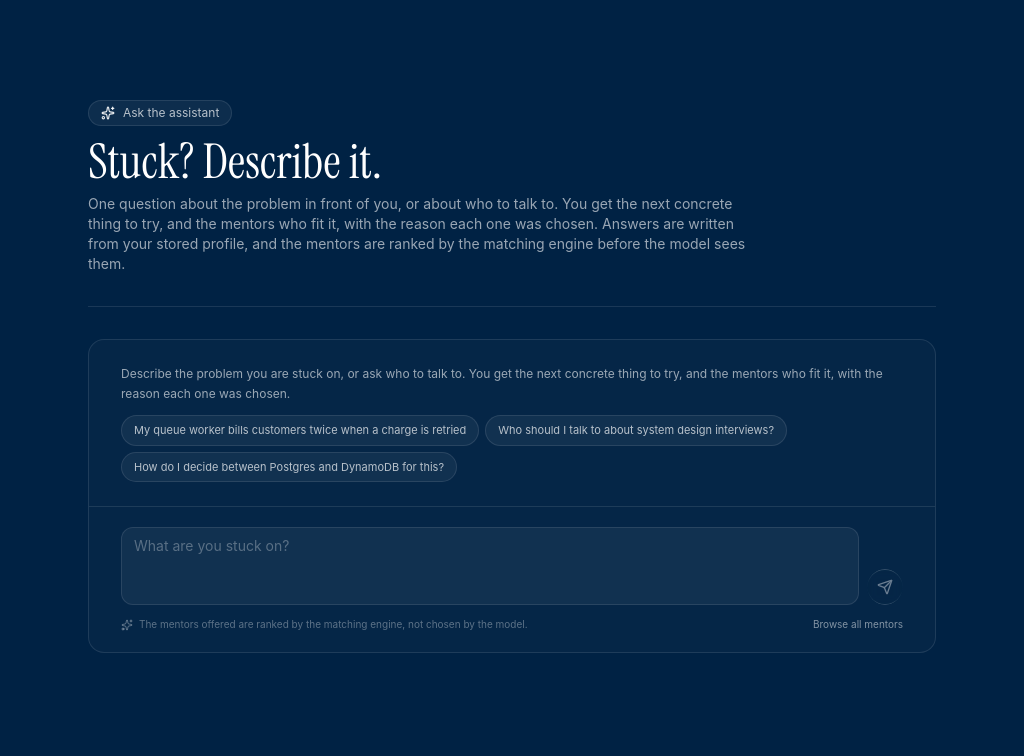
Scenario: the assistant screen › asks the server when there is a session, and labels the model
Type "Why does my queue duplicate charges?" into the text box named "your question" at (490, 566), box x1=121 y1=527 x2=859 y2=605
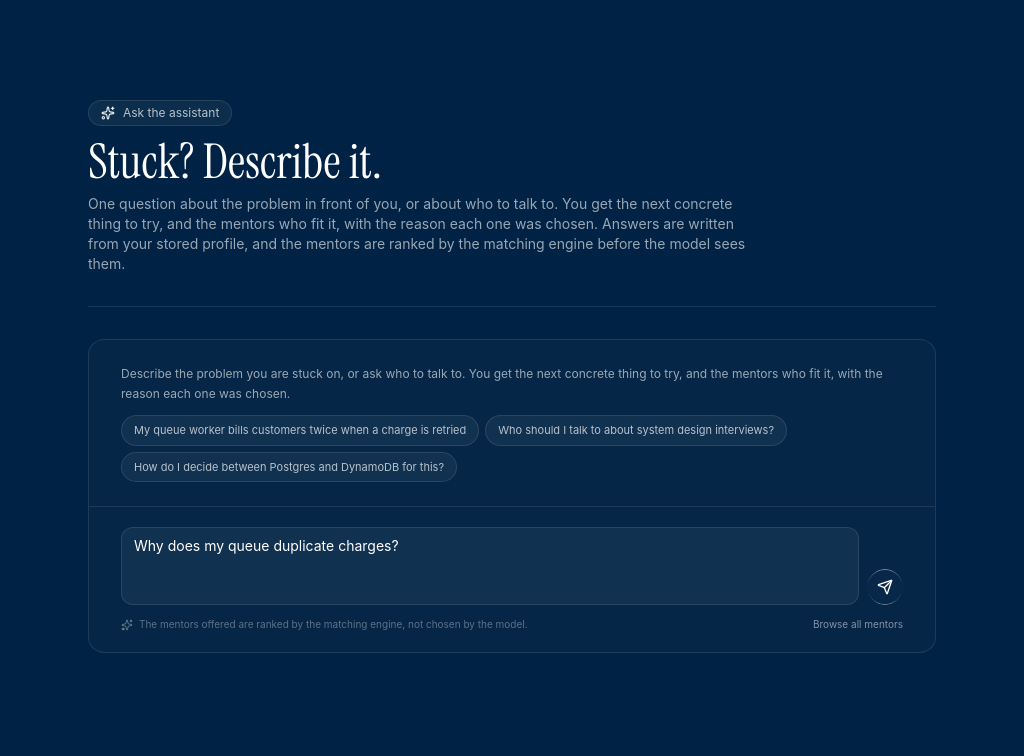
Click the button named "send question" at (885, 587), box x1=867 y1=569 x2=903 y2=605
(page scrolled)
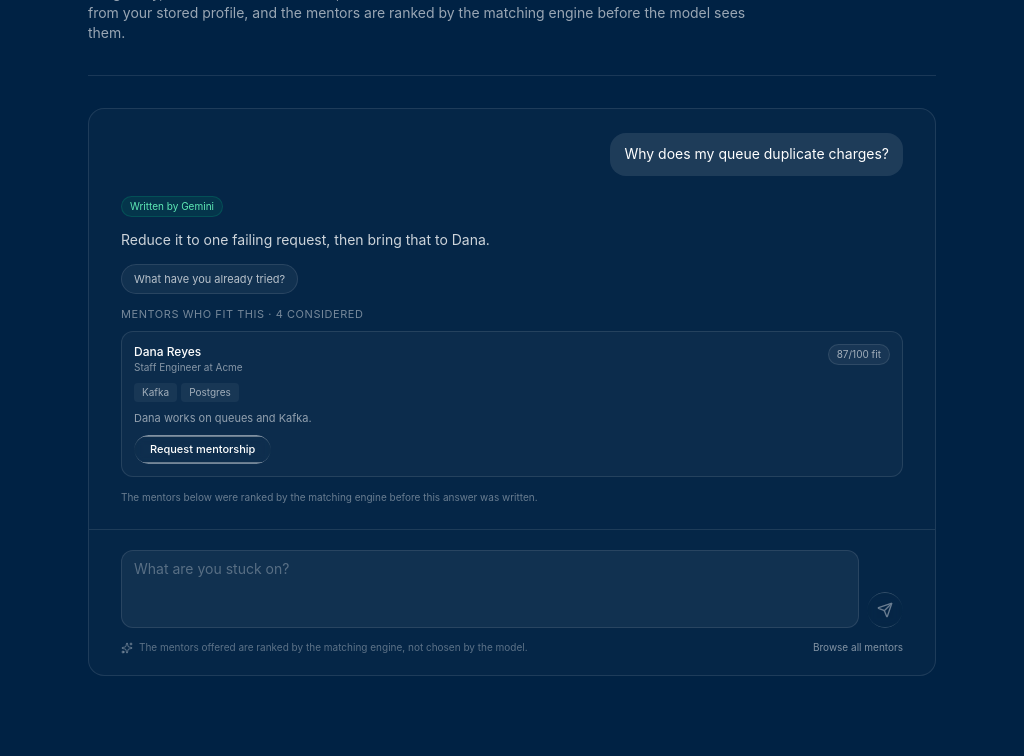
Result: the text "Reduce it to one failing request, then bring that to Dana." is shown at x1=121 y1=231 x2=490 y2=248
Result: the text "Written by Gemini" is shown at x1=121 y1=196 x2=223 y2=217
Result: the text "Dana Reyes" is shown at x1=134 y1=344 x2=201 y2=358
